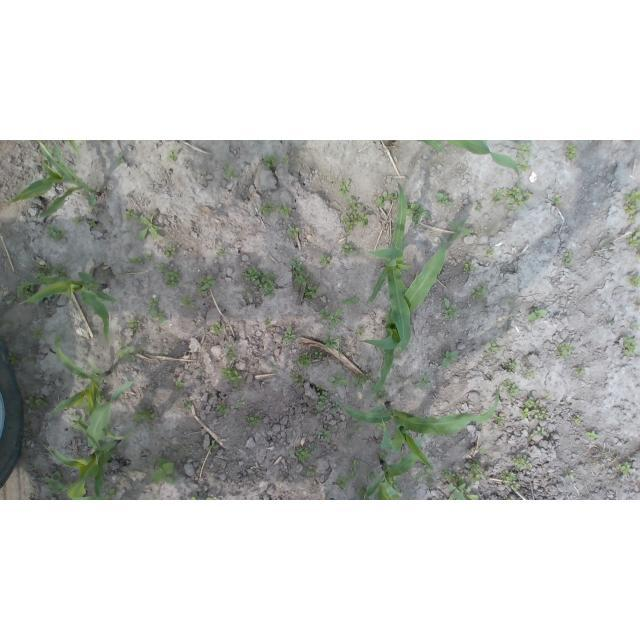Maize: (364, 234, 449, 402), (340, 386, 501, 473), (48, 336, 140, 441), (369, 180, 413, 358), (6, 140, 101, 220), (18, 271, 119, 343), (44, 420, 120, 500), (385, 140, 521, 184), (362, 434, 427, 500), (66, 141, 92, 156)
Weeds: (519, 395, 549, 421), (139, 209, 162, 239), (150, 458, 175, 484), (241, 266, 261, 294), (290, 256, 310, 284), (406, 202, 430, 225), (42, 471, 66, 493), (505, 187, 526, 211), (516, 141, 532, 172), (451, 219, 472, 242), (221, 366, 244, 387), (148, 297, 164, 324), (465, 458, 482, 483), (261, 270, 276, 298), (116, 342, 136, 362), (502, 470, 520, 492), (441, 297, 458, 320), (197, 275, 216, 295), (289, 447, 312, 463), (17, 280, 35, 300), (133, 406, 154, 423), (164, 268, 181, 289), (512, 454, 532, 471), (70, 412, 87, 432), (622, 336, 639, 356), (329, 370, 350, 386), (44, 223, 65, 239), (470, 282, 488, 300), (626, 226, 640, 248), (501, 380, 519, 397), (557, 343, 575, 360), (294, 352, 313, 368), (354, 372, 373, 388), (222, 160, 238, 179), (527, 308, 547, 323), (491, 187, 505, 208), (343, 211, 357, 232), (329, 309, 343, 330), (450, 483, 467, 500), (441, 351, 459, 367), (323, 333, 341, 349), (435, 191, 454, 206), (376, 192, 392, 209), (622, 190, 640, 205), (501, 360, 519, 375), (564, 142, 578, 161), (282, 325, 296, 344), (316, 391, 329, 411), (259, 200, 275, 216), (36, 262, 53, 277), (247, 412, 262, 428), (303, 285, 320, 299), (617, 462, 635, 475), (415, 376, 433, 389), (126, 317, 142, 331), (7, 350, 21, 366), (52, 263, 68, 277), (336, 474, 350, 490), (357, 210, 370, 227), (77, 398, 90, 415), (181, 293, 195, 308), (347, 197, 362, 211), (441, 468, 455, 483), (225, 345, 236, 364), (35, 395, 49, 409), (341, 243, 355, 257), (165, 148, 179, 162), (278, 204, 293, 217), (264, 154, 277, 169), (462, 259, 474, 275), (338, 180, 350, 196), (315, 430, 332, 441), (467, 486, 480, 500), (32, 326, 45, 339), (288, 226, 301, 239), (216, 402, 230, 414), (563, 251, 574, 266), (628, 275, 640, 288), (102, 424, 114, 437), (355, 483, 367, 496), (486, 342, 499, 354), (126, 208, 139, 220), (584, 429, 598, 440), (623, 205, 637, 216), (25, 353, 37, 365), (319, 254, 331, 266), (155, 263, 168, 274), (349, 468, 360, 481), (534, 427, 548, 437), (205, 440, 219, 450), (175, 378, 184, 393), (565, 468, 577, 479), (165, 244, 176, 256), (211, 322, 222, 334), (104, 489, 116, 500), (522, 369, 534, 380), (129, 256, 142, 266), (183, 401, 194, 412), (26, 396, 36, 408), (235, 396, 245, 408), (306, 466, 318, 476), (390, 476, 398, 491), (72, 216, 84, 226), (342, 298, 358, 305), (573, 415, 583, 426), (523, 189, 534, 199), (553, 194, 563, 205), (456, 473, 466, 484), (378, 388, 388, 399), (216, 245, 225, 257), (374, 421, 384, 431), (485, 245, 495, 255), (115, 154, 125, 164), (576, 367, 586, 377), (290, 373, 299, 384), (366, 471, 377, 480), (298, 375, 306, 387), (495, 415, 504, 425), (627, 216, 637, 225), (320, 309, 329, 319), (281, 154, 290, 164), (475, 201, 483, 212), (333, 401, 340, 413), (269, 362, 278, 371), (314, 350, 323, 359), (422, 468, 431, 477), (353, 422, 363, 430), (138, 343, 146, 353), (370, 379, 378, 389), (428, 477, 435, 488), (67, 479, 76, 487), (380, 452, 389, 460), (89, 220, 98, 228), (315, 384, 325, 391), (481, 471, 489, 479), (56, 334, 64, 342), (144, 252, 152, 260), (312, 443, 319, 452), (394, 191, 400, 201), (355, 329, 365, 335), (205, 496, 220, 500), (508, 300, 516, 307), (10, 295, 17, 303), (632, 324, 640, 331), (99, 394, 105, 403), (140, 464, 146, 473), (478, 446, 484, 454), (528, 434, 534, 442), (75, 374, 83, 380), (352, 459, 360, 465), (415, 474, 421, 482), (43, 311, 50, 317), (265, 318, 271, 325), (183, 445, 190, 451), (382, 312, 388, 319), (479, 409, 485, 415), (564, 398, 569, 405), (190, 495, 196, 500), (607, 320, 613, 325), (503, 495, 509, 500), (546, 393, 551, 399), (340, 350, 346, 354), (636, 254, 640, 259), (348, 438, 353, 442), (593, 141, 599, 144), (97, 140, 105, 142), (65, 140, 70, 142), (372, 140, 376, 142)
